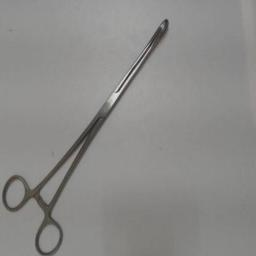Sponge Forceps: (1, 10, 175, 256)
